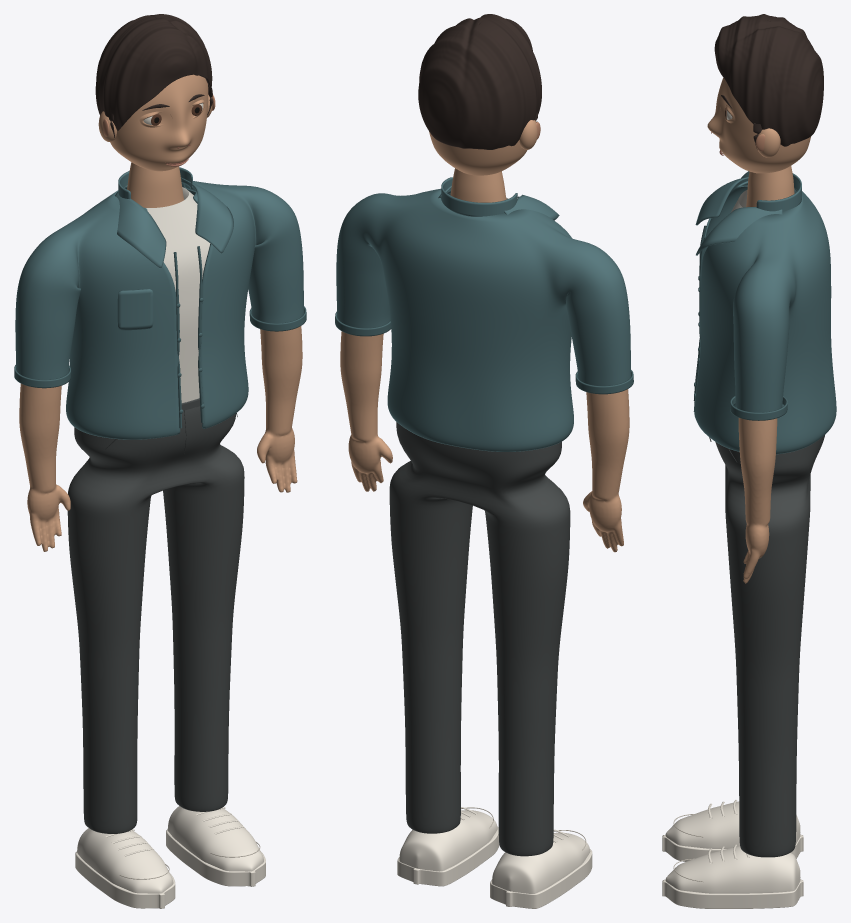
The model's file is male-base-e.glb.
3 views of the same model, side by side, from view 1: azimuth 30°, elevation 25°; view 2: azimuth 150°, elevation 25°; view 3: azimuth 270°, elevation 25° (orthographic). The views are drawn at different scales.
Visible parts, largest first — view 1: Male · continuous trousers | E retopology | export, Male · continuous tailored overshirt | E base | export, Male · continuous swept hair volume | E base | export, Male · continuous face / nose / cheeks | E base | export, Male · continuous forearm hand fingers | E base | export, Male · inner tee | E base | export, Male · continuous forearm hand fingers.001 | E base | export, Male · shaped sneaker upper.001 | E base | export, Male · shaped sneaker upper | E base | export, Male · folded collar | E base | export, Male · shaped neck | E base | export, Male · folded collar.001 | E base | export (+3 smaller); view 2: Male · continuous tailored overshirt | E base | export, Male · continuous trousers | E retopology | export, Male · continuous swept hair volume | E base | export, Male · continuous forearm hand fingers.001 | E base | export, Male · continuous forearm hand fingers | E base | export, Male · shaped sneaker upper | E base | export, Male · shaped sneaker upper.001 | E base | export, Male · continuous face / nose / cheeks | E base | export, Male · rubber outsole | E base | export, Male · rubber outsole.001 | E base | export, Male · shaped neck | E base | export, Male · back collar band | E base | export; view 3: Male · continuous tailored overshirt | E base | export, Male · continuous trousers | E retopology | export, Male · continuous swept hair volume | E base | export, Male · shaped sneaker upper.001 | E base | export, Male · continuous forearm hand fingers.001 | E base | export, Male · continuous face / nose / cheeks | E base | export, Male · shaped sneaker upper | E base | export, Male · rubber outsole.001 | E base | export, Male · shaped neck | E base | export, Male · folded collar.001 | E base | export, Male · rubber outsole | E base | export, Male · folded collar | E base | export (+3 smaller).
Part boxes in pixels (x1,y1,x2,y2): Male · continuous trousers | E retopology | export: [67, 406, 244, 833]; Male · continuous tailored overshirt | E base | export: [15, 181, 303, 439]; Male · continuous swept hair volume | E base | export: [95, 14, 212, 130]; Male · continuous face / nose / cheeks | E base | export: [110, 74, 208, 171]; Male · continuous forearm hand fingers | E base | export: [19, 383, 70, 551]; Male · inner tee | E base | export: [146, 187, 210, 402]; Male · continuous forearm hand fingers.001 | E base | export: [257, 326, 302, 492]; Male · shaped sneaker upper.001 | E base | export: [167, 806, 263, 871]; Male · shaped sneaker upper | E base | export: [77, 828, 173, 893]; Male · folded collar | E base | export: [115, 192, 166, 268]; Male · shaped neck | E base | export: [127, 162, 183, 207]; Male · folded collar.001 | E base | export: [181, 177, 233, 253]; Male · continuous tailored overshirt | E base | export: [336, 188, 630, 451]; Male · continuous trousers | E retopology | export: [389, 422, 570, 856]; Male · continuous swept hair volume | E base | export: [418, 14, 541, 149]; Male · continuous forearm hand fingers.001 | E base | export: [340, 331, 392, 491]; Male · continuous forearm hand fingers | E base | export: [583, 389, 629, 552]; Male · shaped sneaker upper | E base | export: [492, 832, 590, 893]; Male · shaped sneaker upper.001 | E base | export: [399, 810, 497, 871]; Male · continuous face / nose / cheeks | E base | export: [429, 131, 527, 175]; Male · rubber outsole | E base | export: [490, 849, 592, 908]; Male · rubber outsole.001 | E base | export: [397, 826, 499, 886]; Male · shaped neck | E base | export: [450, 168, 506, 202]; Male · back collar band | E base | export: [441, 177, 517, 216]; Male · continuous tailored overshirt | E base | export: [694, 171, 836, 454]; Male · continuous trousers | E retopology | export: [715, 435, 824, 857]; Male · continuous swept hair volume | E base | export: [714, 14, 823, 146]; Male · shaped sneaker upper.001 | E base | export: [665, 846, 800, 893]; Male · continuous forearm hand fingers.001 | E base | export: [738, 418, 777, 583]; Male · continuous face / nose / cheeks | E base | export: [707, 78, 810, 173]; Male · shaped sneaker upper | E base | export: [665, 801, 800, 848]; Male · rubber outsole.001 | E base | export: [662, 879, 803, 908]; Male · shaped neck | E base | export: [746, 166, 794, 207]; Male · folded collar.001 | E base | export: [696, 207, 782, 255]; Male · rubber outsole | E base | export: [662, 834, 803, 861]; Male · folded collar | E base | export: [695, 177, 748, 225].
Size of the model in its own units: 0.6412 by 1.81 by 0.3352.
